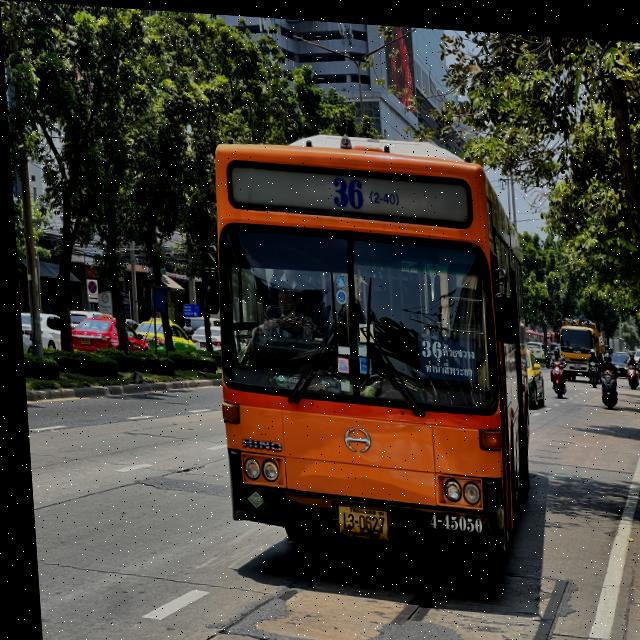BMTA-bus: (201, 125, 534, 562)
Bus-Line-Number: (325, 165, 401, 213)
Destination-Sign-Normal: (412, 329, 475, 376)
